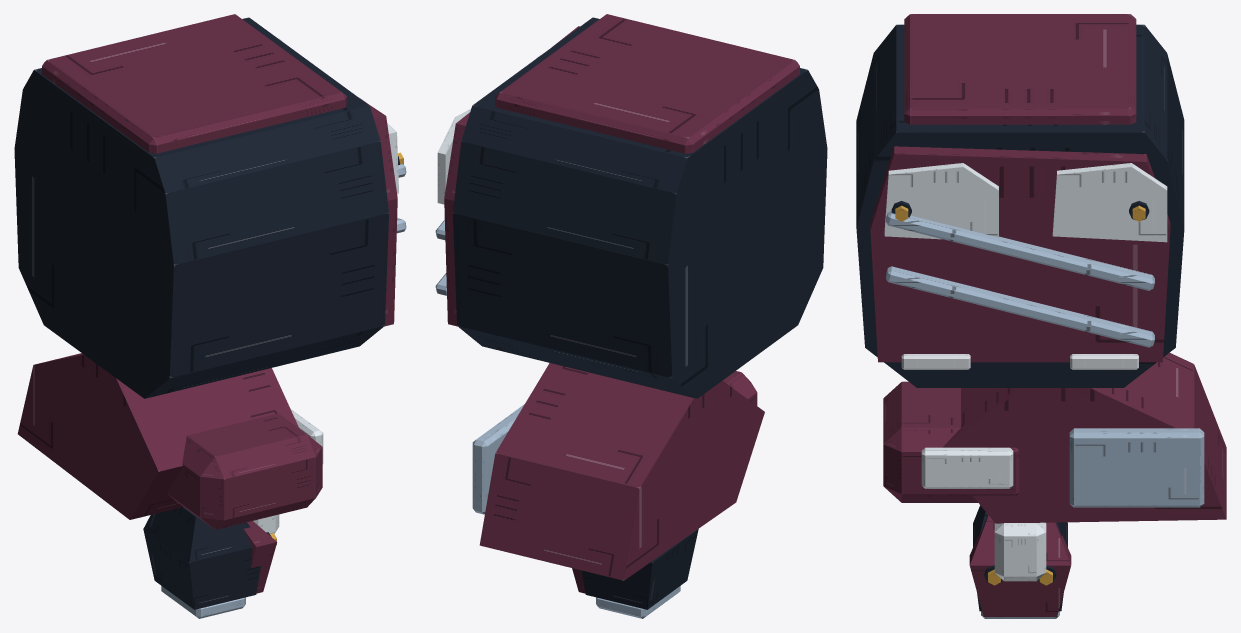
File: duelist.glb
3 views of the same model, side by side, from view 1: azimuth 30°, elevation 25°; view 2: azimuth 150°, elevation 25°; view 3: azimuth 270°, elevation 25° (orthographic). The views are drawn at different scales.
Parts seen in each view (by area): view 1: chest, arm_L, arm_R, forearm_L; view 2: chest, arm_L, forearm_L, arm_R; view 3: chest, arm_L, arm_R, forearm_L.
Boxes of the visible parts, x1,y1,x2,y2 form: chest: (14, 14, 406, 398); arm_L: (17, 353, 299, 533); arm_R: (167, 408, 323, 529); forearm_L: (143, 507, 277, 618); chest: (435, 14, 827, 398); arm_L: (472, 363, 764, 580); forearm_L: (572, 529, 698, 618); arm_R: (722, 371, 757, 405); chest: (856, 14, 1184, 387); arm_L: (943, 352, 1226, 581); arm_R: (883, 381, 1019, 502); forearm_L: (969, 505, 1071, 618).
Bounding box in the file's own units: 0.274 × 0.5545 × 0.343.
6 materials, 6 textured.
